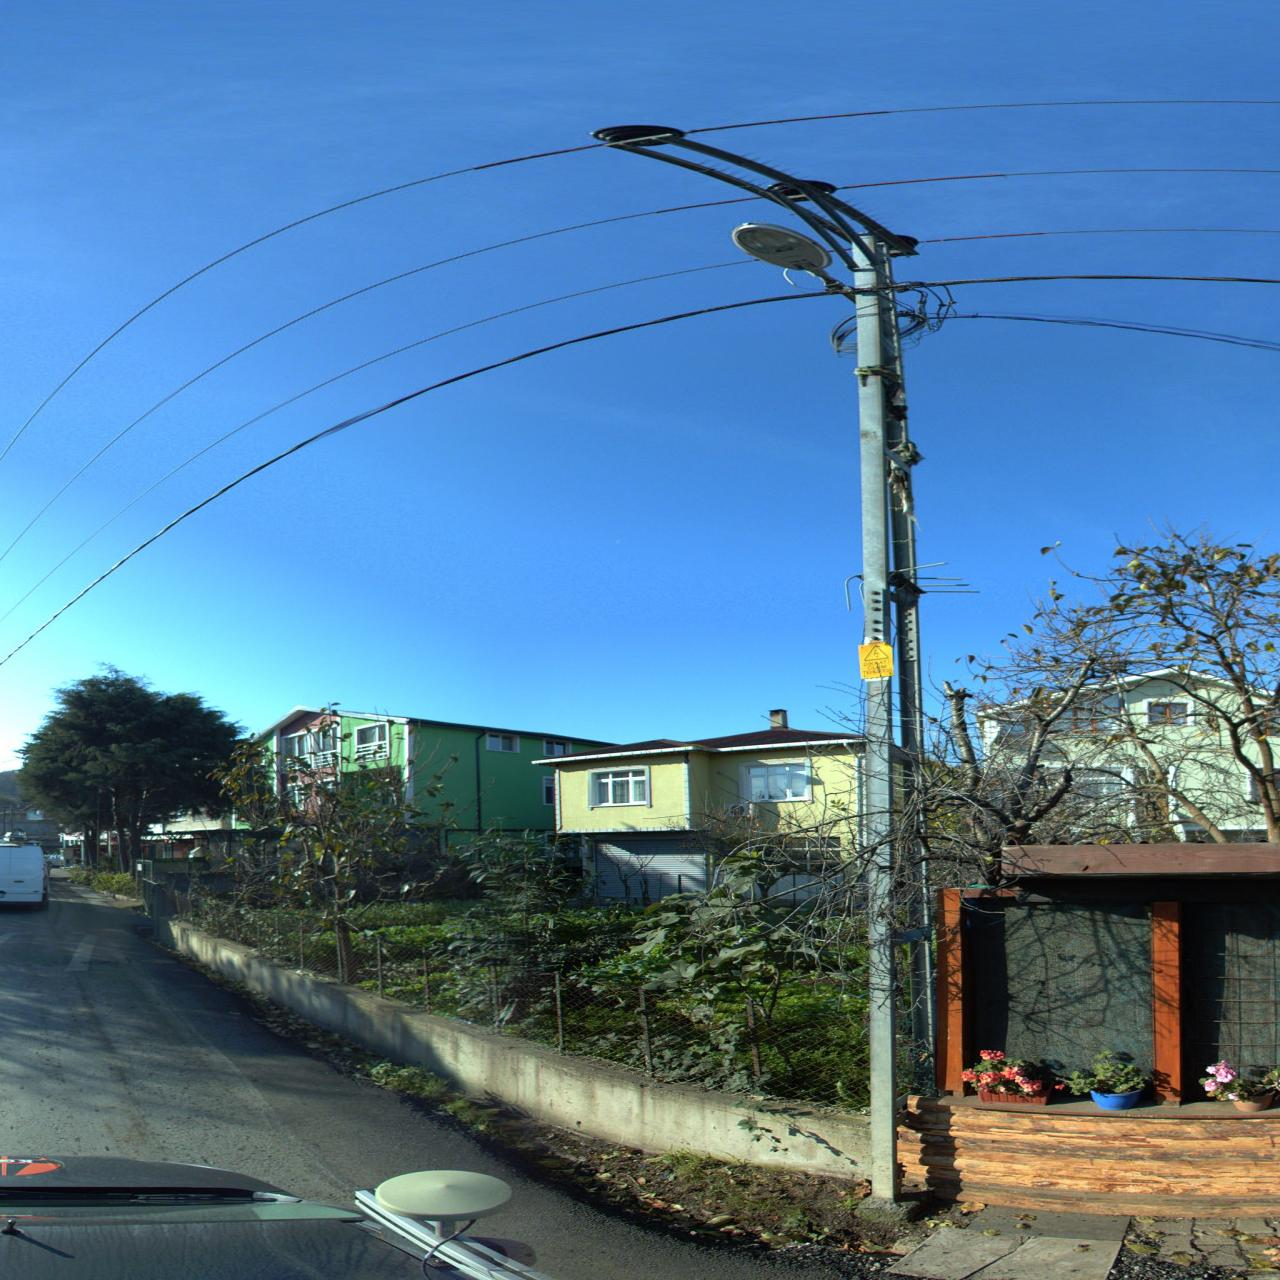Utility Pole Information Plate: (859, 641, 894, 679)
